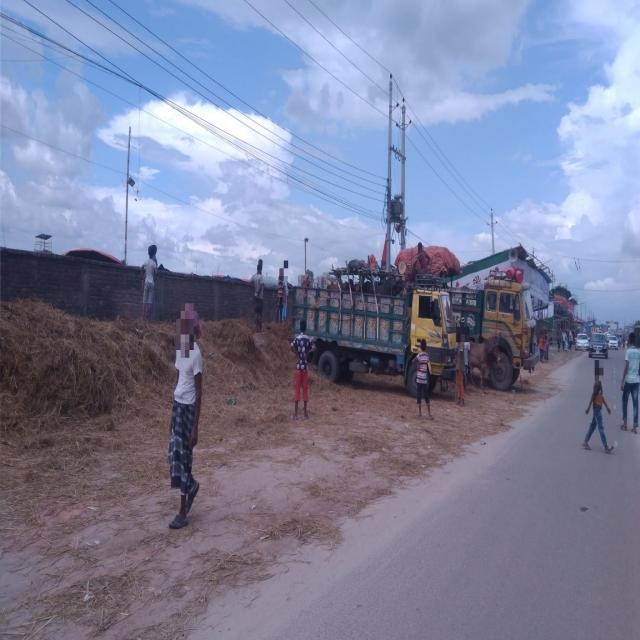car: (588, 332, 610, 362), (573, 326, 591, 355), (608, 333, 618, 352)
truck: (290, 261, 458, 403), (453, 258, 530, 384)
